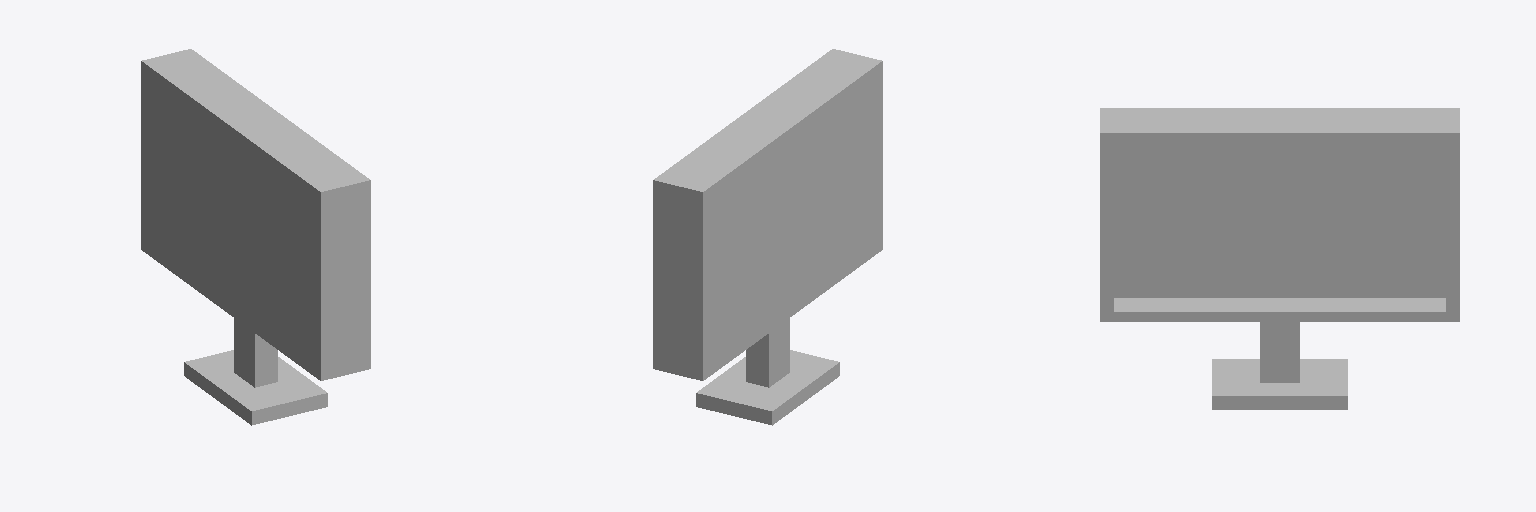
Rendered from Monitor.obj.
3 renders of one model, left to right at view 1: azimuth 30°, elevation 25°; view 2: azimuth 150°, elevation 25°; view 3: azimuth 270°, elevation 25°, orthographic.
Parts seen in each view (by area): view 1: Cube; view 2: Cube; view 3: Cube.
Boxes of the visible parts, box(x1,y1,x2,y2) form: Cube: box(141, 49, 370, 425); Cube: box(653, 49, 882, 425); Cube: box(1100, 108, 1459, 409).
Bounding box in the file's own units: 0.2834 × 0.9621 × 1.16.